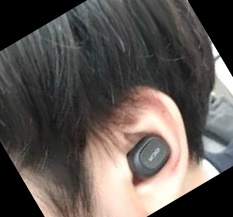earphone: (87, 72, 219, 216)
